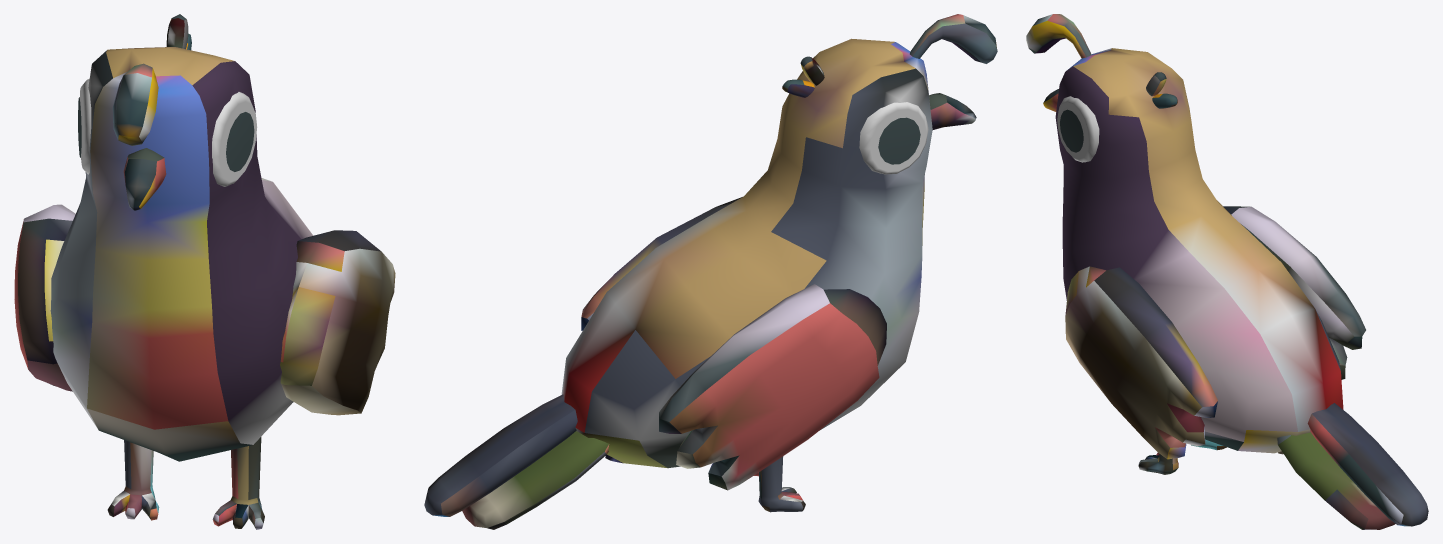
The model's file is Quail.glb.
3 renders of one model, left to right at view 1: azimuth 30°, elevation 25°; view 2: azimuth 150°, elevation 25°; view 3: azimuth 270°, elevation 25°, orthographic. The views are drawn at different scales.
Visible parts, largest first — view 1: 133; view 2: 133; view 3: 133.
Part boxes in pixels (x1,y1,x2,y2): 133: [14, 14, 395, 529]; 133: [424, 14, 997, 529]; 133: [1026, 14, 1428, 529].
Size of the model in its own units: 0.617 by 0.7269 by 0.6776.
